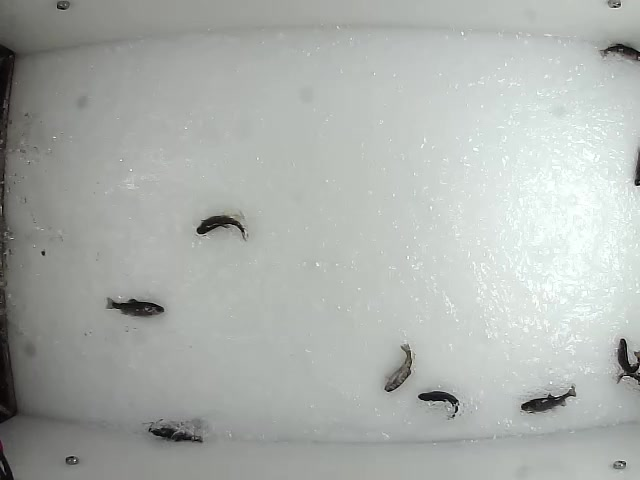fish: (378, 341, 415, 394), (517, 384, 578, 413), (194, 213, 250, 244), (104, 292, 167, 319), (414, 391, 460, 421), (149, 423, 206, 445)
